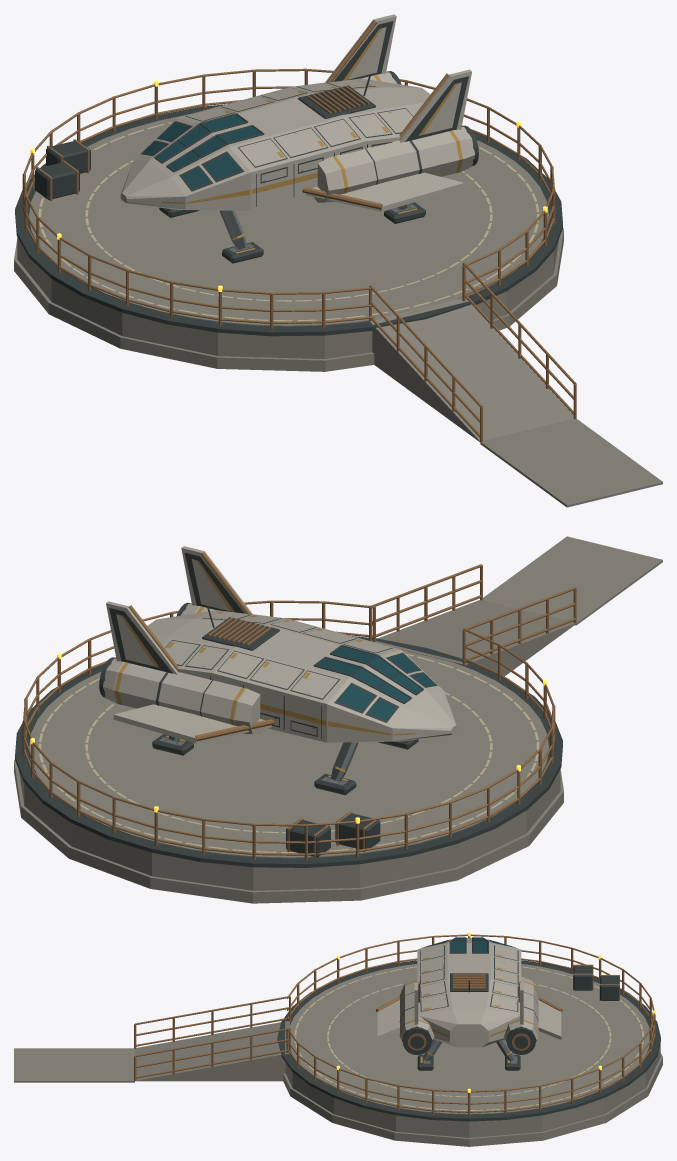
Rendered from launchpad_ship.glb.
The picture shows the model from 3 angles, top to bottom: view 1: azimuth 30°, elevation 25°; view 2: azimuth 150°, elevation 25°; view 3: azimuth 270°, elevation 25°; orthographic projection. The views are drawn at different scales.
Visible parts, largest first — view 1: LaunchpadShip_Runtime; view 2: LaunchpadShip_Runtime; view 3: LaunchpadShip_Runtime.
Boxes of the visible parts, x1,y1,x2,y2 form: LaunchpadShip_Runtime: [14, 14, 662, 507]; LaunchpadShip_Runtime: [14, 536, 662, 903]; LaunchpadShip_Runtime: [14, 932, 662, 1146].
Bounding box in the file's own units: 16 × 5.75 × 26.8.
